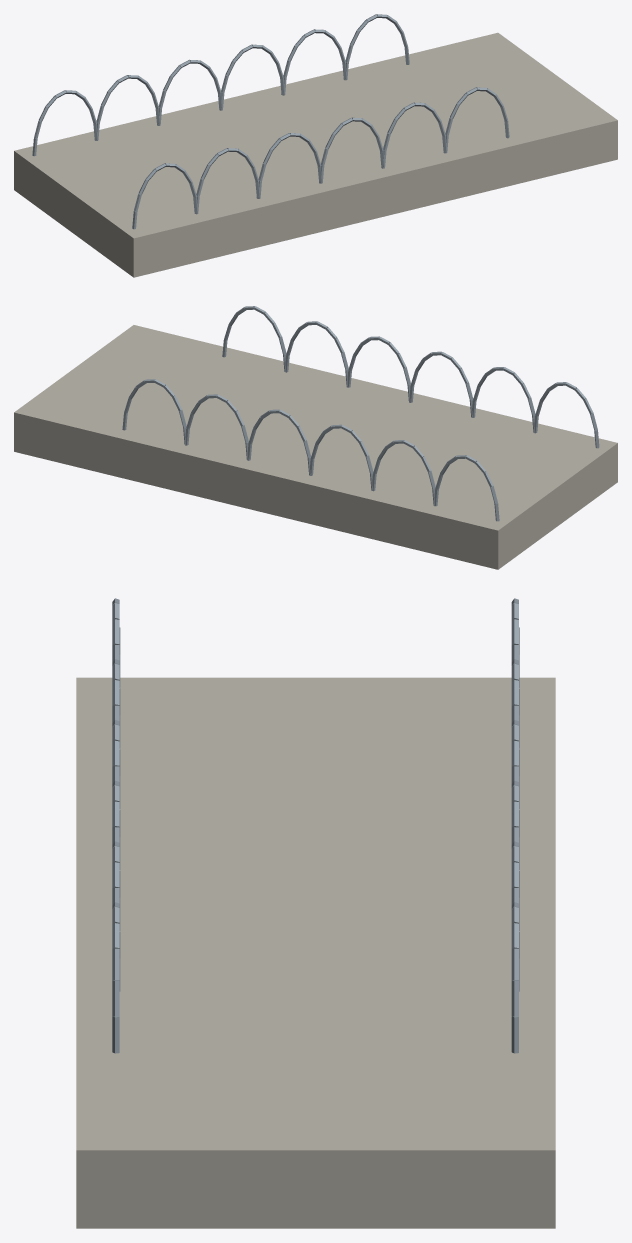
The picture shows the model from 3 angles, top to bottom: view 1: azimuth 30°, elevation 25°; view 2: azimuth 150°, elevation 25°; view 3: azimuth 270°, elevation 25°; orthographic projection. The views are drawn at different scales.
Visible parts, largest first — view 1: worldgen; view 2: worldgen; view 3: worldgen.
Part boxes in pixels (box(x1,y1,x2,y2)): worldgen: box(14, 14, 617, 277); worldgen: box(14, 306, 617, 569); worldgen: box(76, 598, 555, 1228).
Size of the model in its own units: 140 by 26.81 by 59.99.
